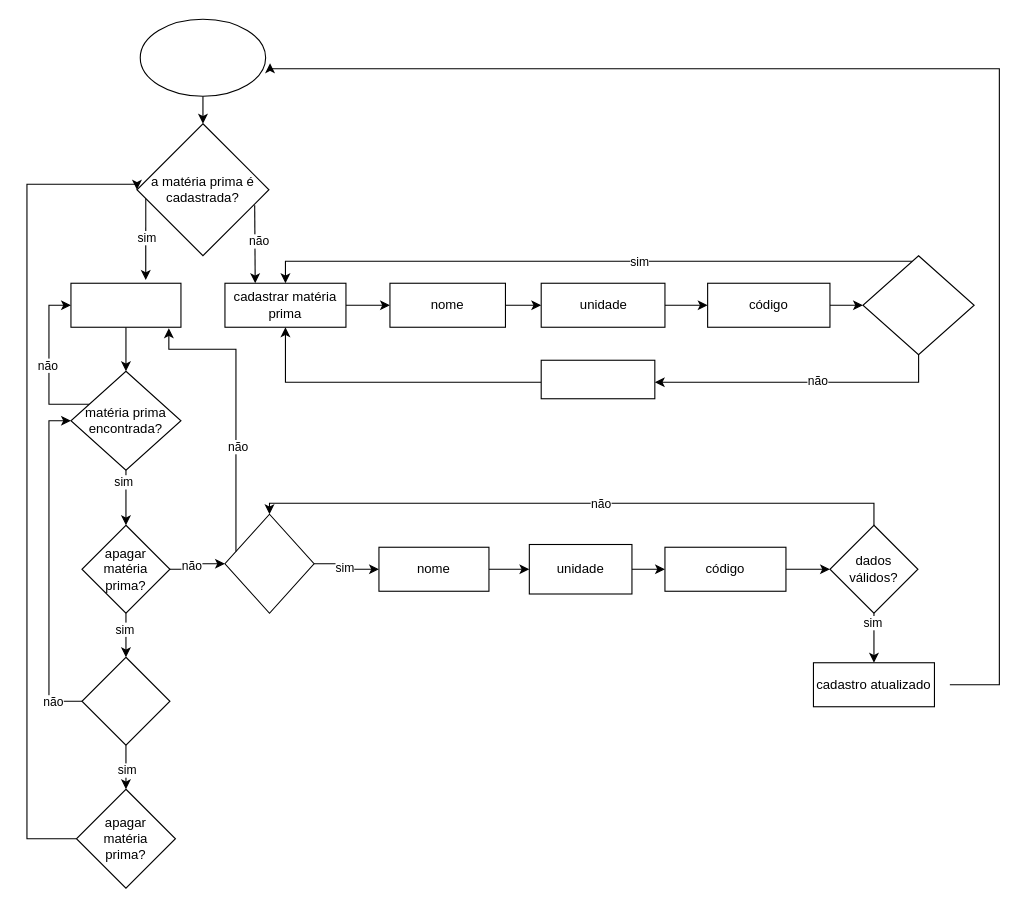
This 1027x908 diagram has some shape labels left out. The box of each missing label's shape, as (x1, y1, x2, y2) in pixels:
atualizar matéria prima?: (224, 513, 314, 613)
buscar matéria prima: (70, 282, 181, 327)
confirmar: (81, 656, 170, 745)
mostrar erro: (540, 359, 655, 399)
os dados são válidos?: (862, 255, 974, 355)
ínicio: (139, 18, 266, 96)
